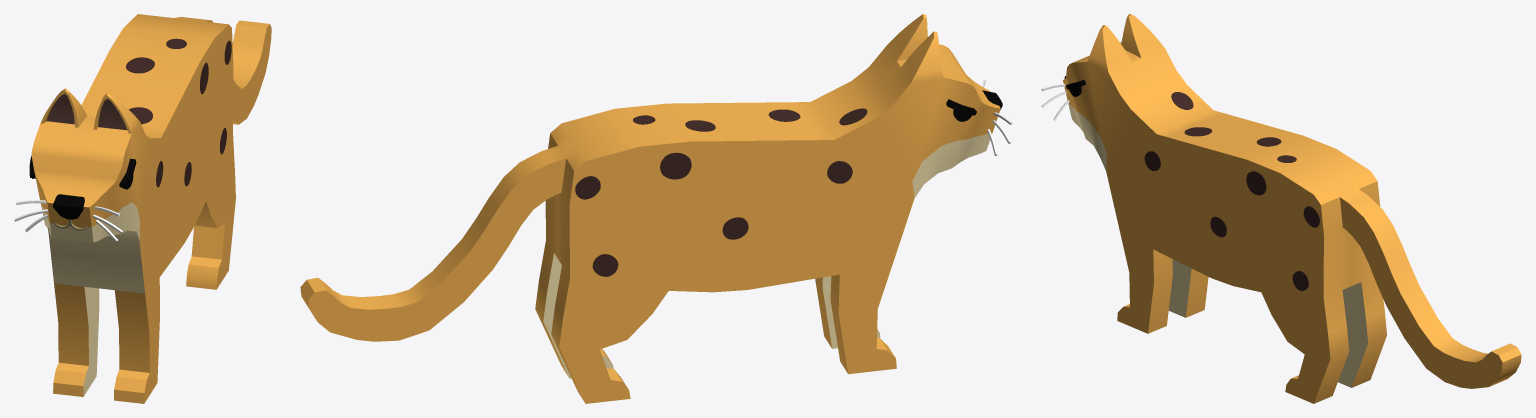
Rendered from leopard.glb.
The picture shows the model from 3 angles, left to right: view 1: azimuth 30°, elevation 25°; view 2: azimuth 150°, elevation 25°; view 3: azimuth 270°, elevation 25°; orthographic projection. The views are drawn at different scales.
Parts seen in each view (by area): view 1: Plane.156, Circle.1951, Cube.008, Circle.1948, Circle.1949; view 2: Plane.156, Circle.1951; view 3: Plane.156, Circle.1951.
Boxes of the visible parts, x1=… form: Plane.156: x1=31, y1=14, x2=271, y2=403; Circle.1951: x1=126, y1=38, x2=231, y2=187; Cube.008: x1=14, y1=200, x2=122, y2=242; Circle.1948: x1=53, y1=194, x2=84, y2=219; Circle.1949: x1=29, y1=155, x2=136, y2=188; Plane.156: x1=300, y1=14, x2=1000, y2=403; Circle.1951: x1=575, y1=108, x2=867, y2=276; Plane.156: x1=1063, y1=14, x2=1521, y2=403; Circle.1951: x1=1144, y1=92, x2=1319, y2=290.
Size of the model in its own units: 2.5 by 1.6 by 2.5.
1 material, 1 textured.
